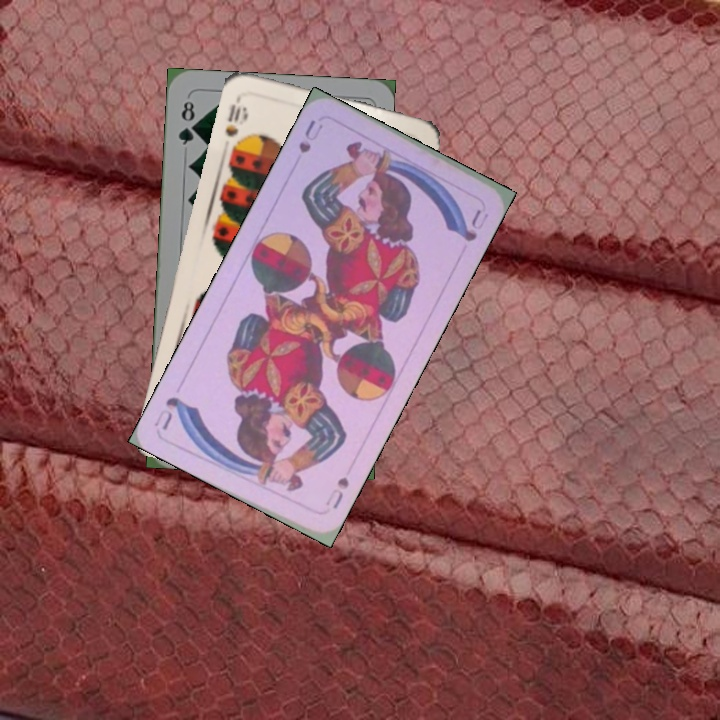G8: (174, 97, 199, 148)
S10: (221, 100, 249, 140)
SU: (294, 115, 326, 156), (329, 472, 352, 512)
